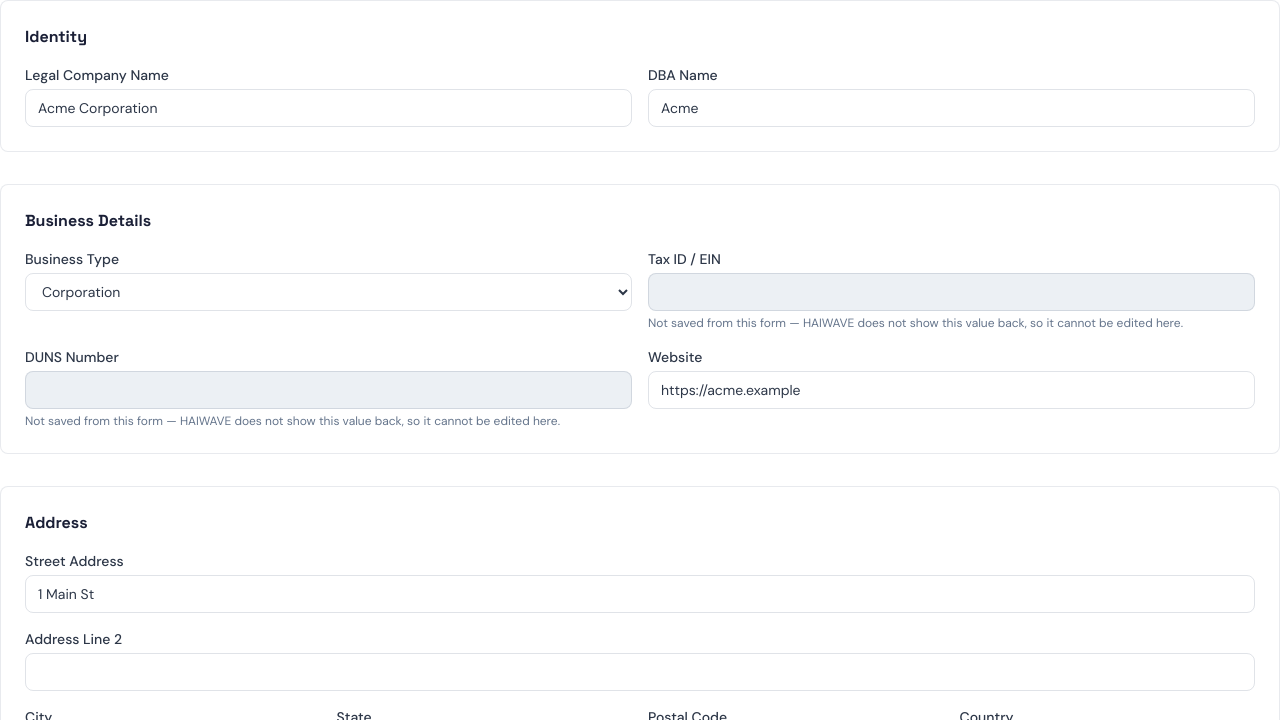
it: ProfileForm locations › clearing the legal company name refuses to save instead of silently discarding the change and reporting success
The image size is (1280, 720).
Clear the field showing "Acme Corporation" below "Legal Company Name" at (328, 108), box [25,89,632,127]
(page scrolled)
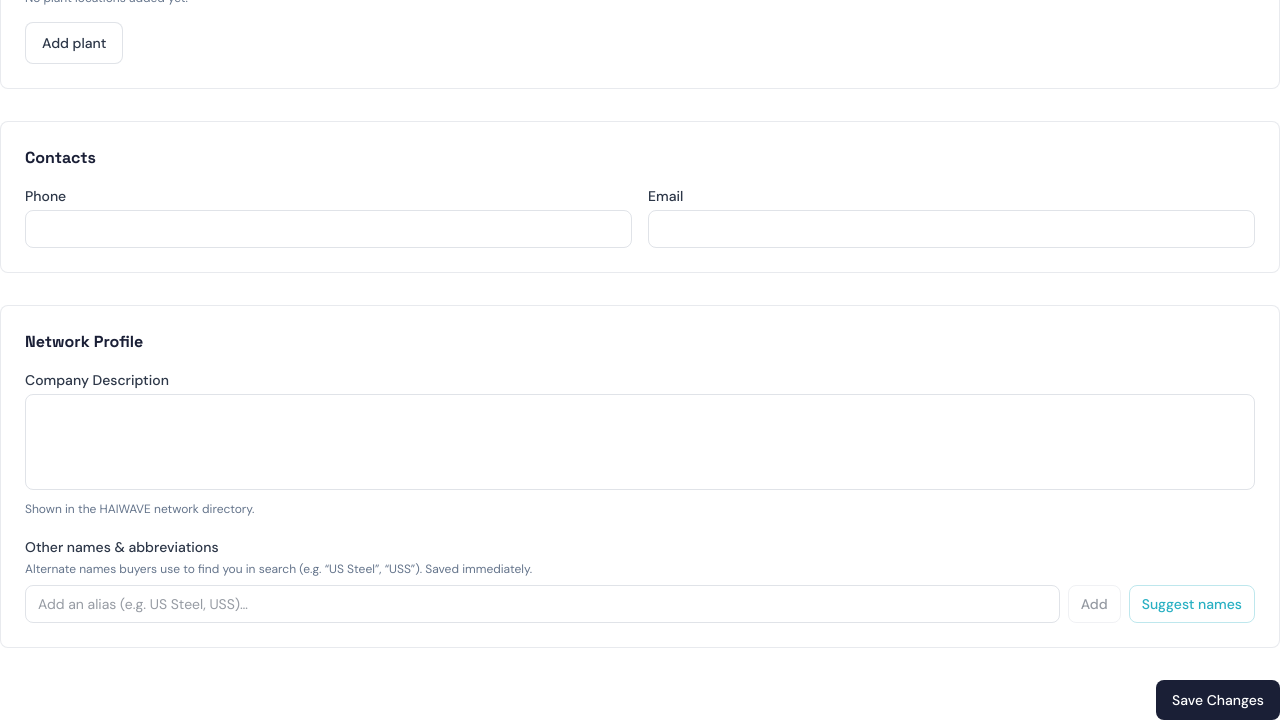
Click the button "Save Changes".
click(1218, 700)  # box [1156,680,1279,719]
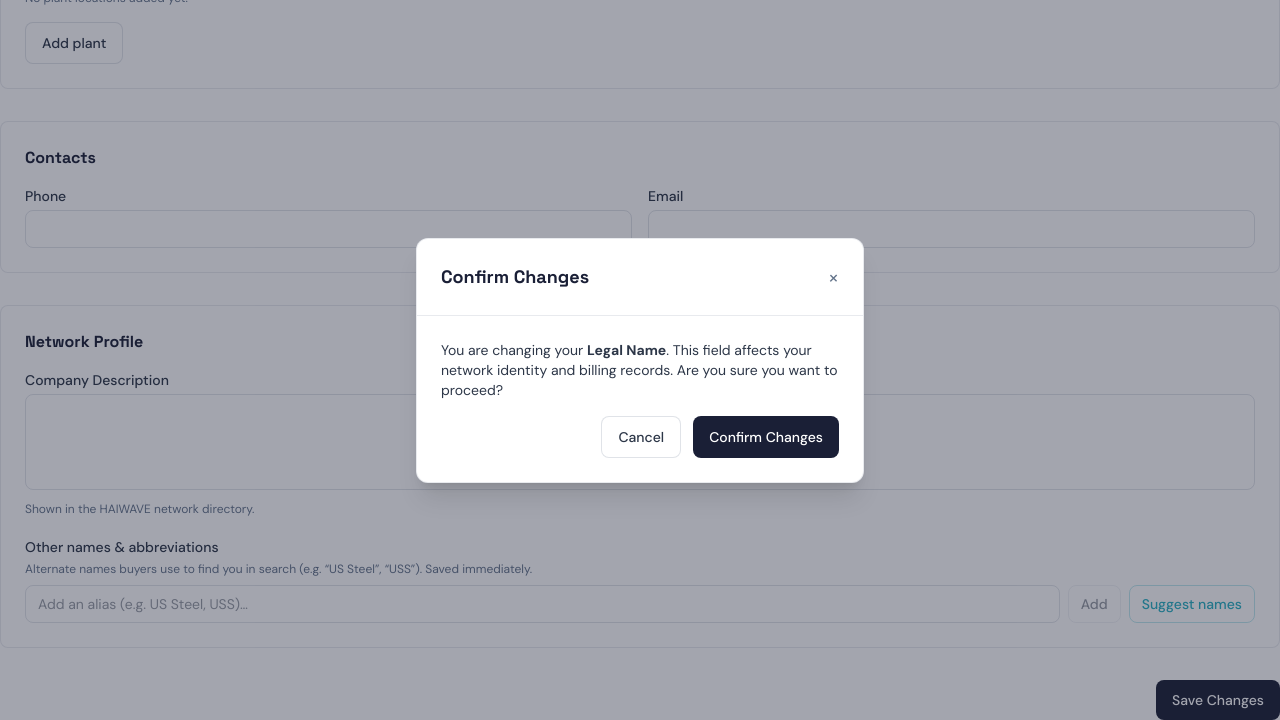
Click the button "Confirm Changes".
click(766, 436)  # box [693,416,839,458]
(page scrolled)
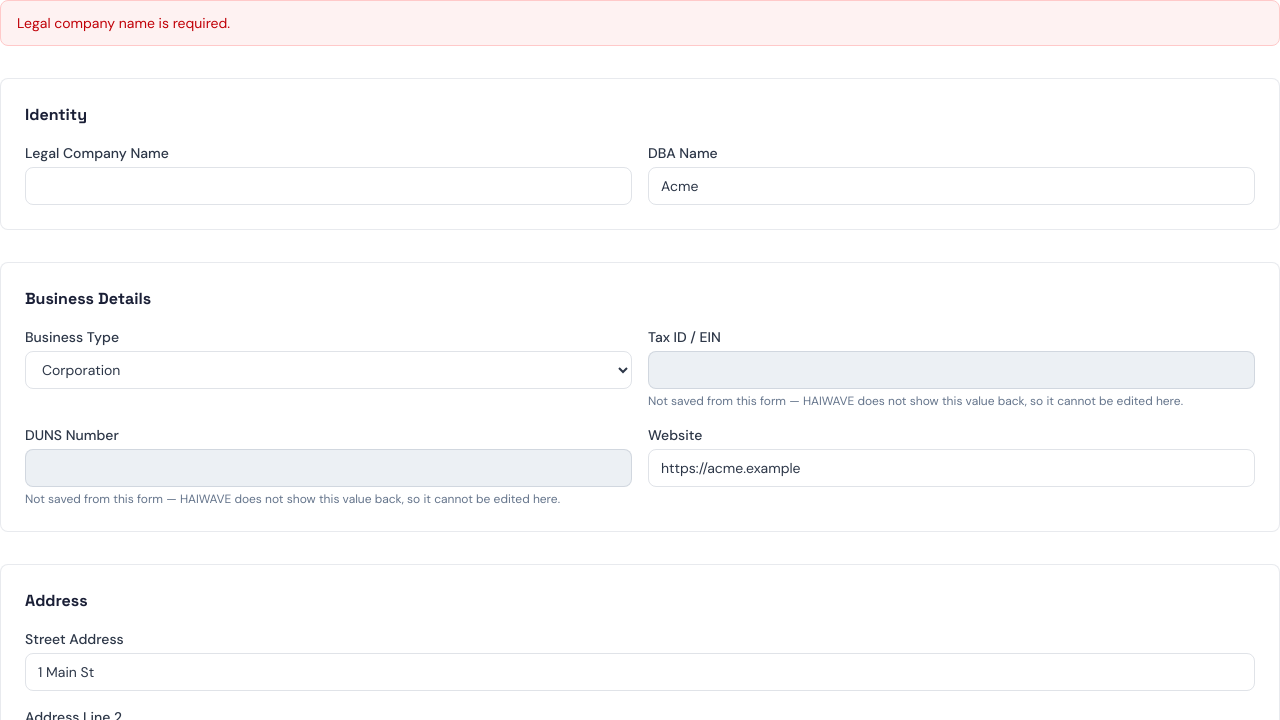
Expected: the text "Legal company name is required." is shown, [0,0,1279,46]
